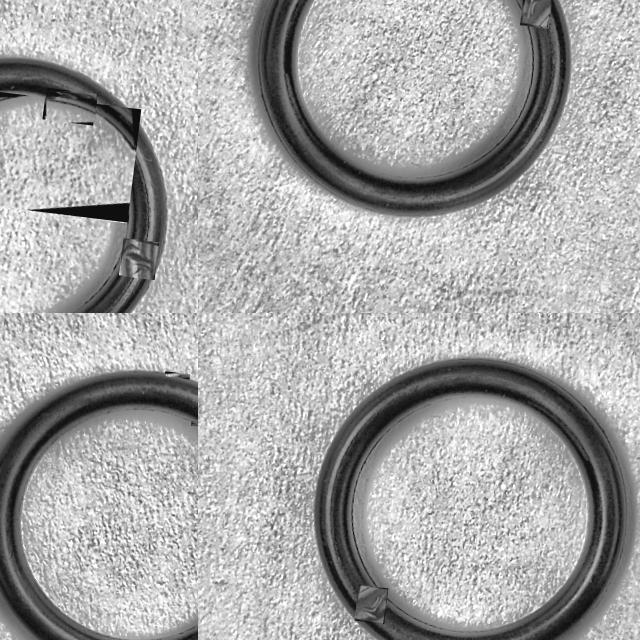侧边压痕: (168, 373, 188, 377)
切割缺陷: (45, 91, 94, 121), (121, 240, 155, 278), (355, 590, 387, 622), (524, 0, 551, 25)
裂纹: (0, 95, 134, 151), (191, 421, 198, 425)
